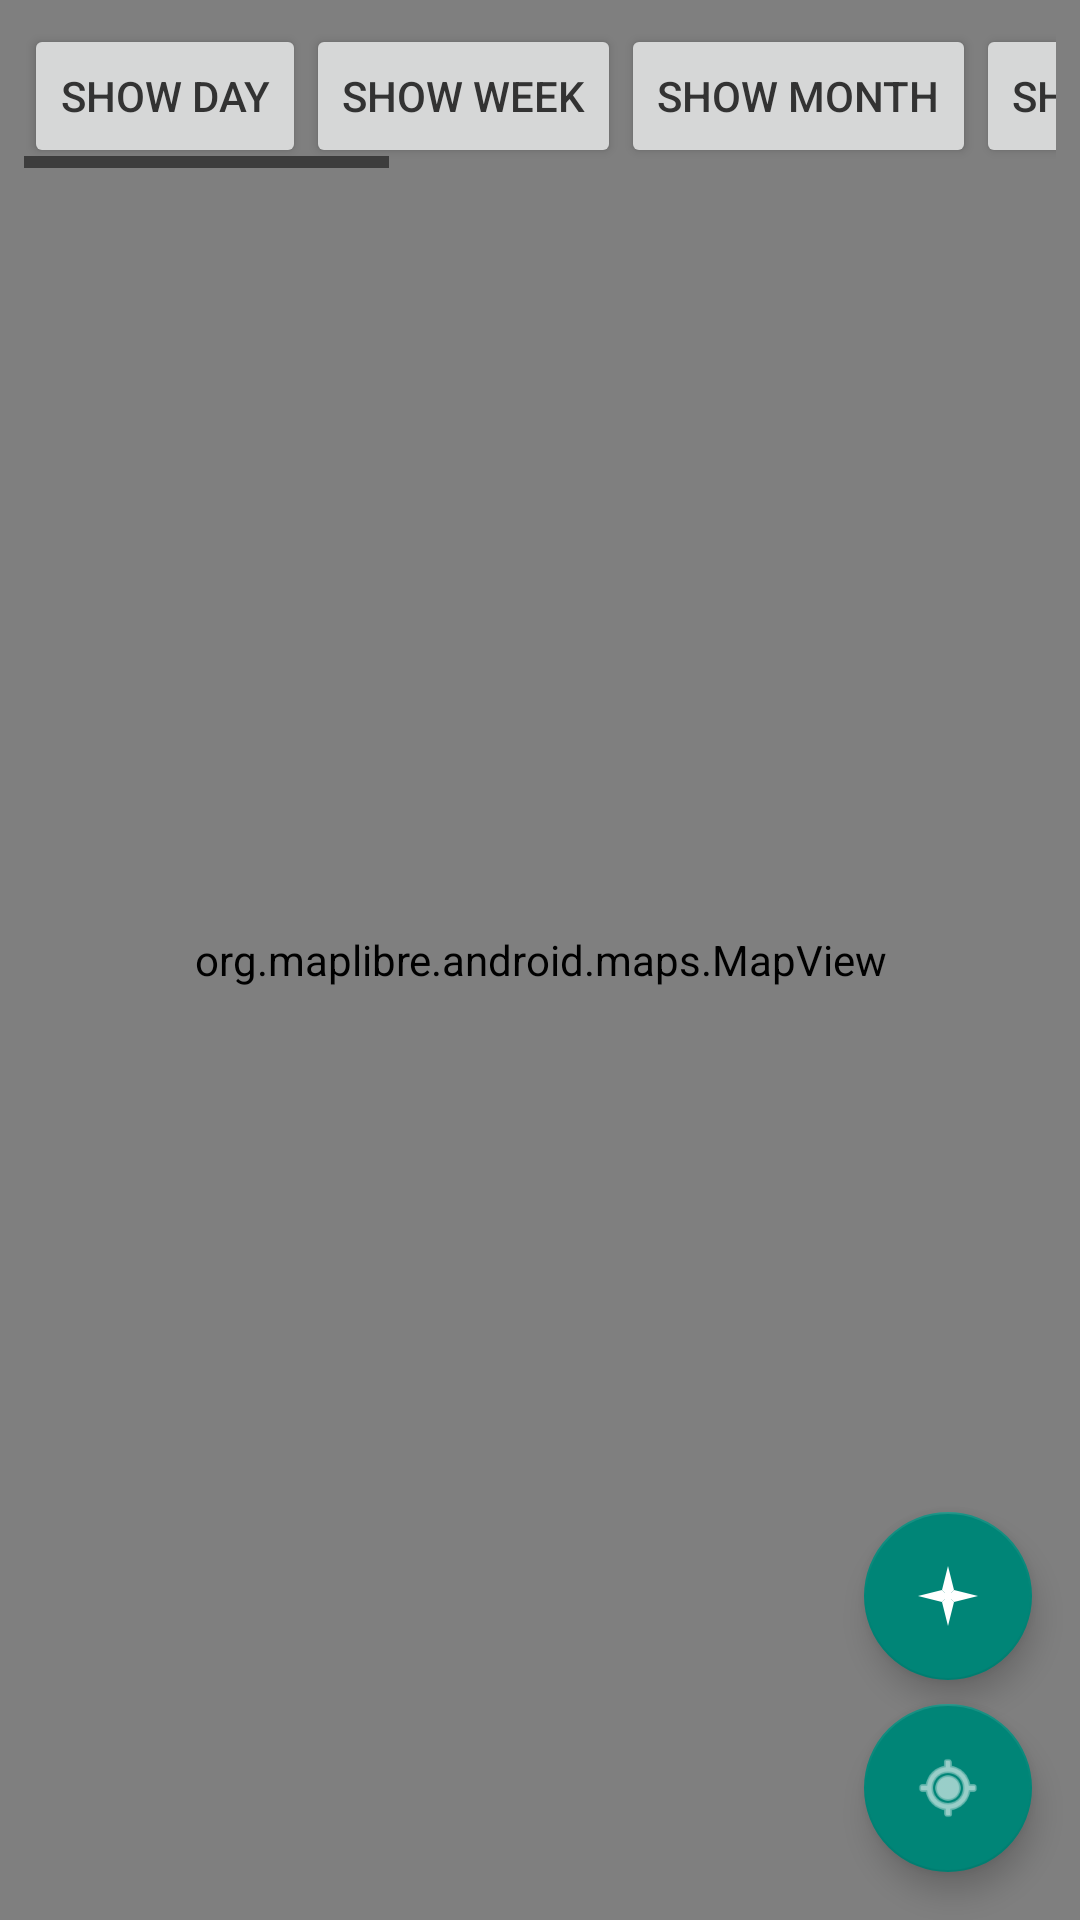

Named icons in this screenshot (1080×1920) and their centers, (x=x, y=y):
Bearing mode: (x=948, y=1596)
Locate: (x=948, y=1788)
